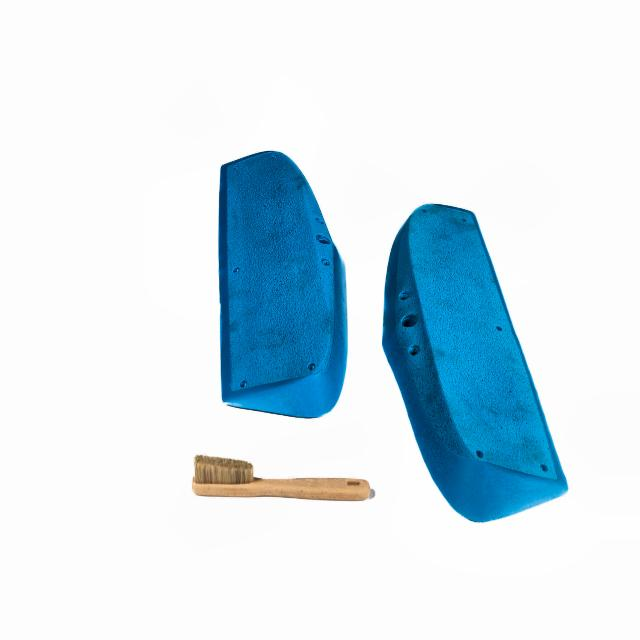Hold: (379, 191, 570, 530), (202, 130, 355, 436)
